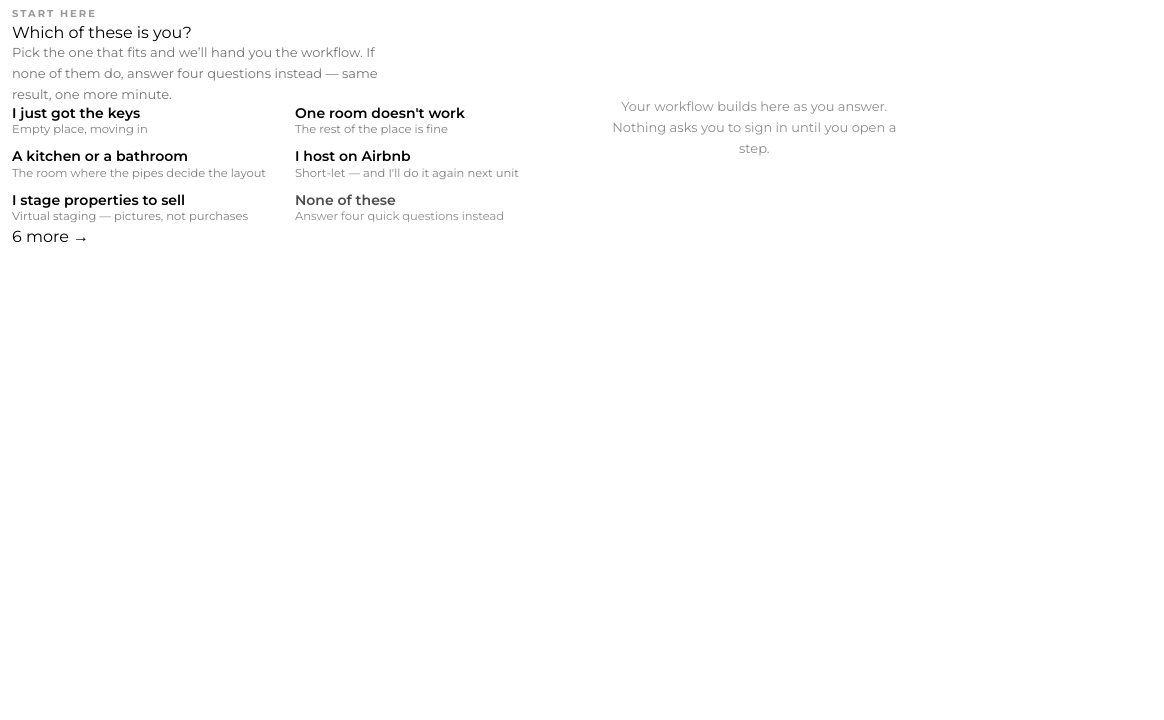
Test: picking an identity › a stager reaches their route in one click, and is never sent shopping
Click the button "I stage properties to sell" at point(148, 208), box [12,192,285,225]
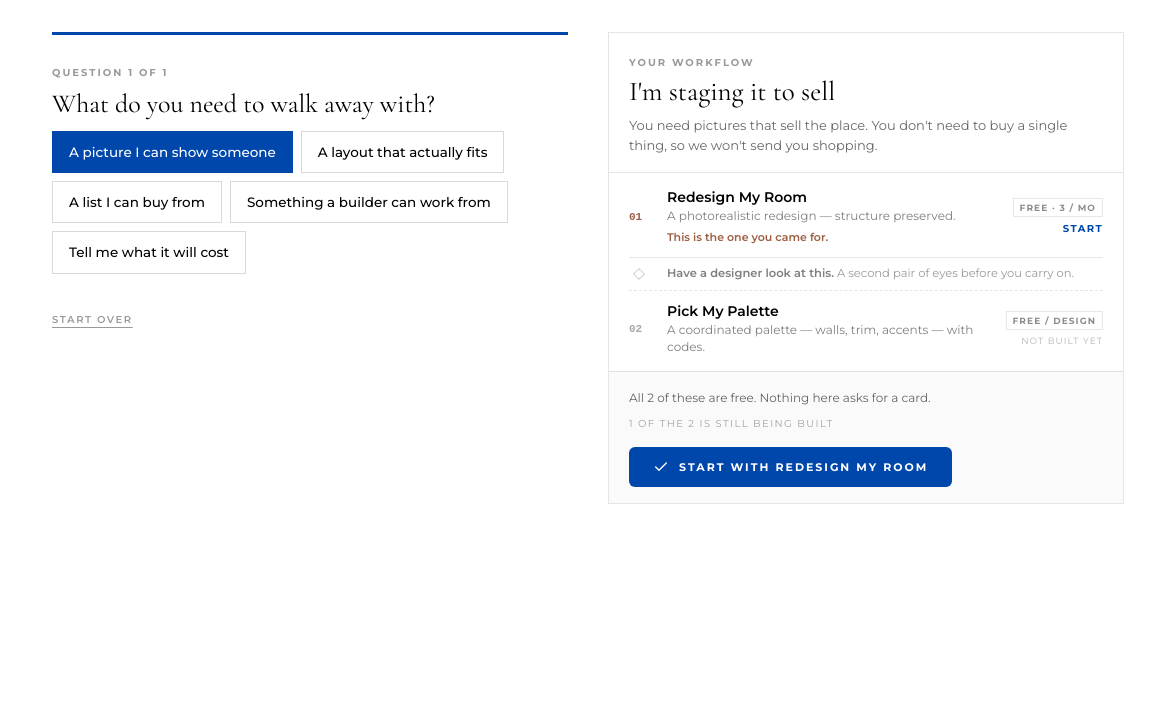
Expected: the heading "I'm staging it to sell" is shown, [629,75,835,108]
Expected: the text "Redesign My Room" is shown, [667,188,807,206]
